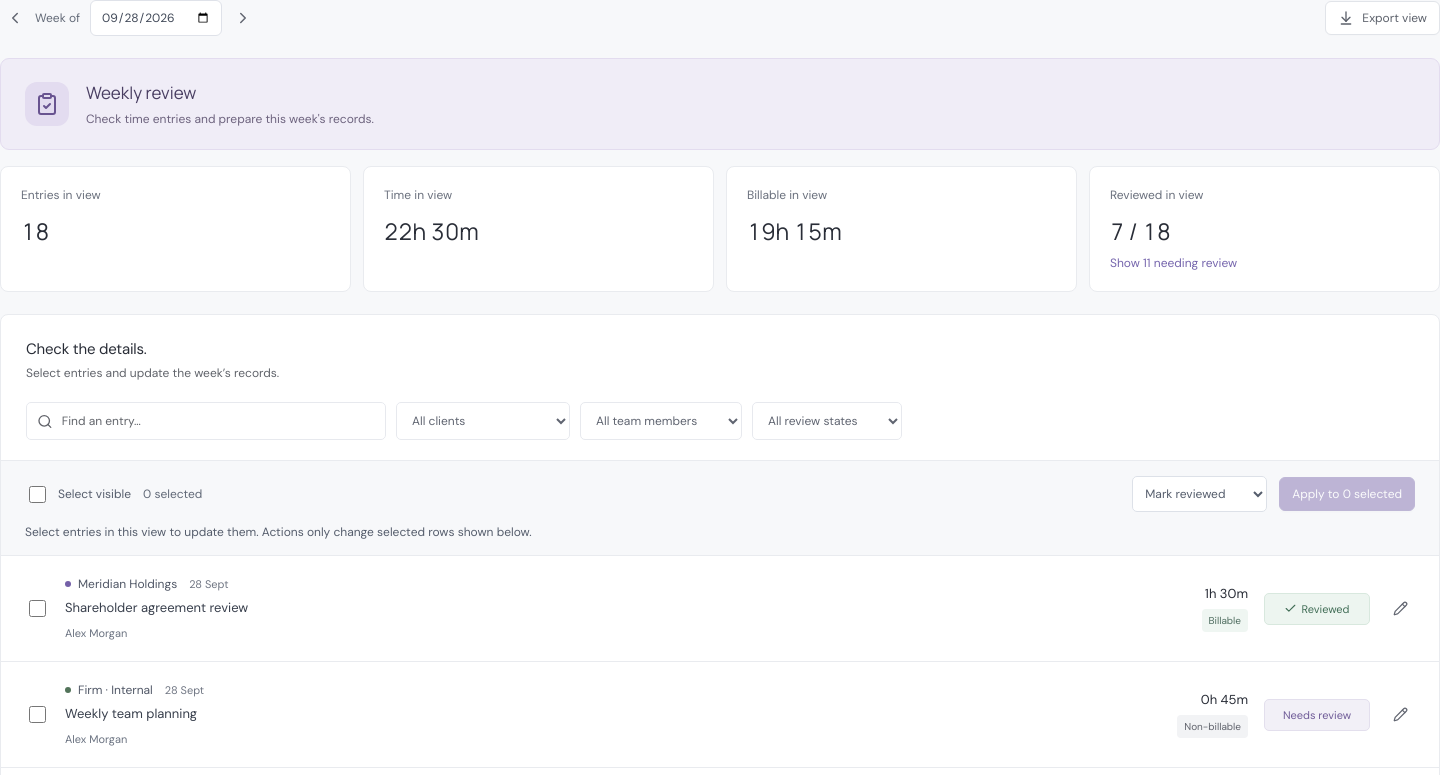
Test case: Search typos keep the selection › actions and Select visible never drop rows hidden by search
Click the checkbox named "Select Weekly team planning" at (38, 714), box [29, 706, 46, 722]
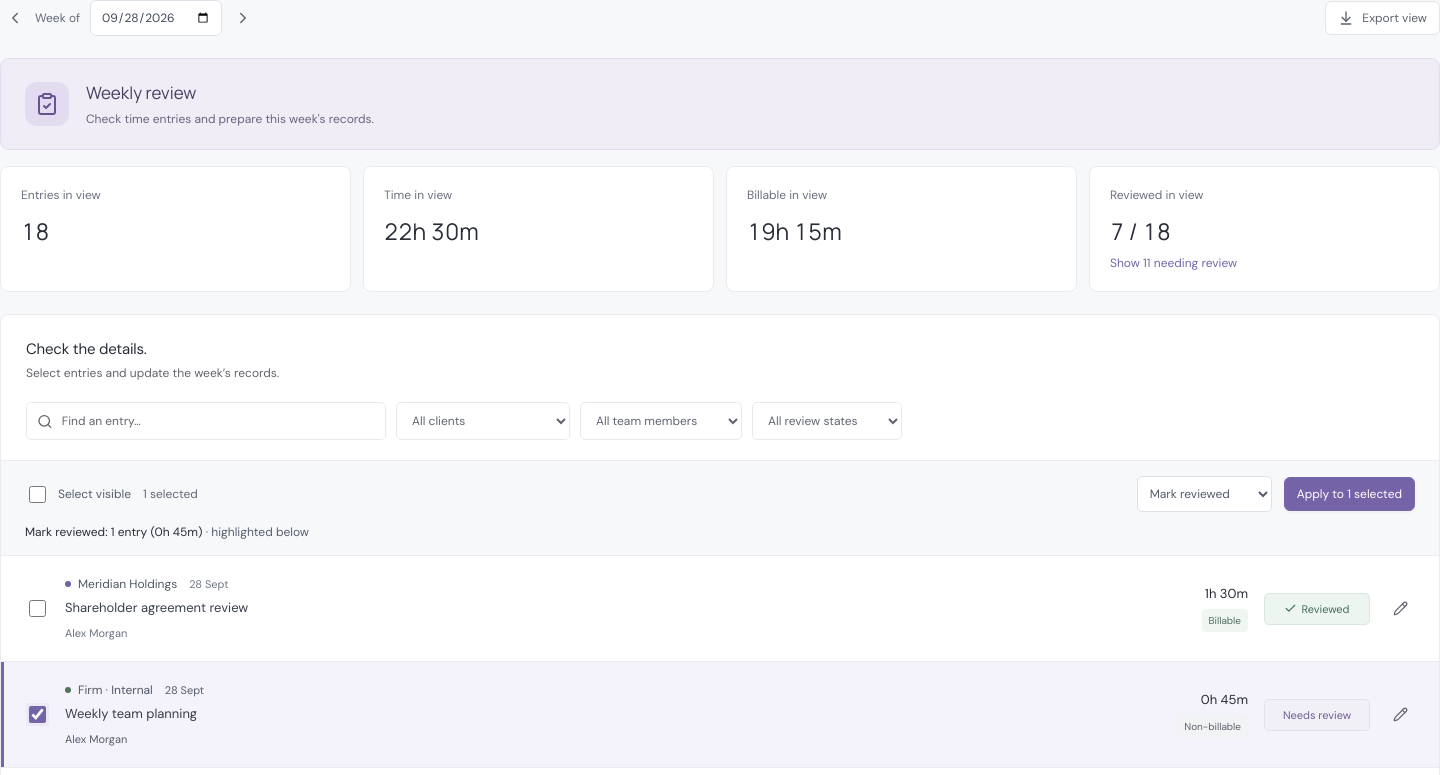
Type "lease" into the field named "Search review" at (218, 421), box [62, 403, 375, 439]
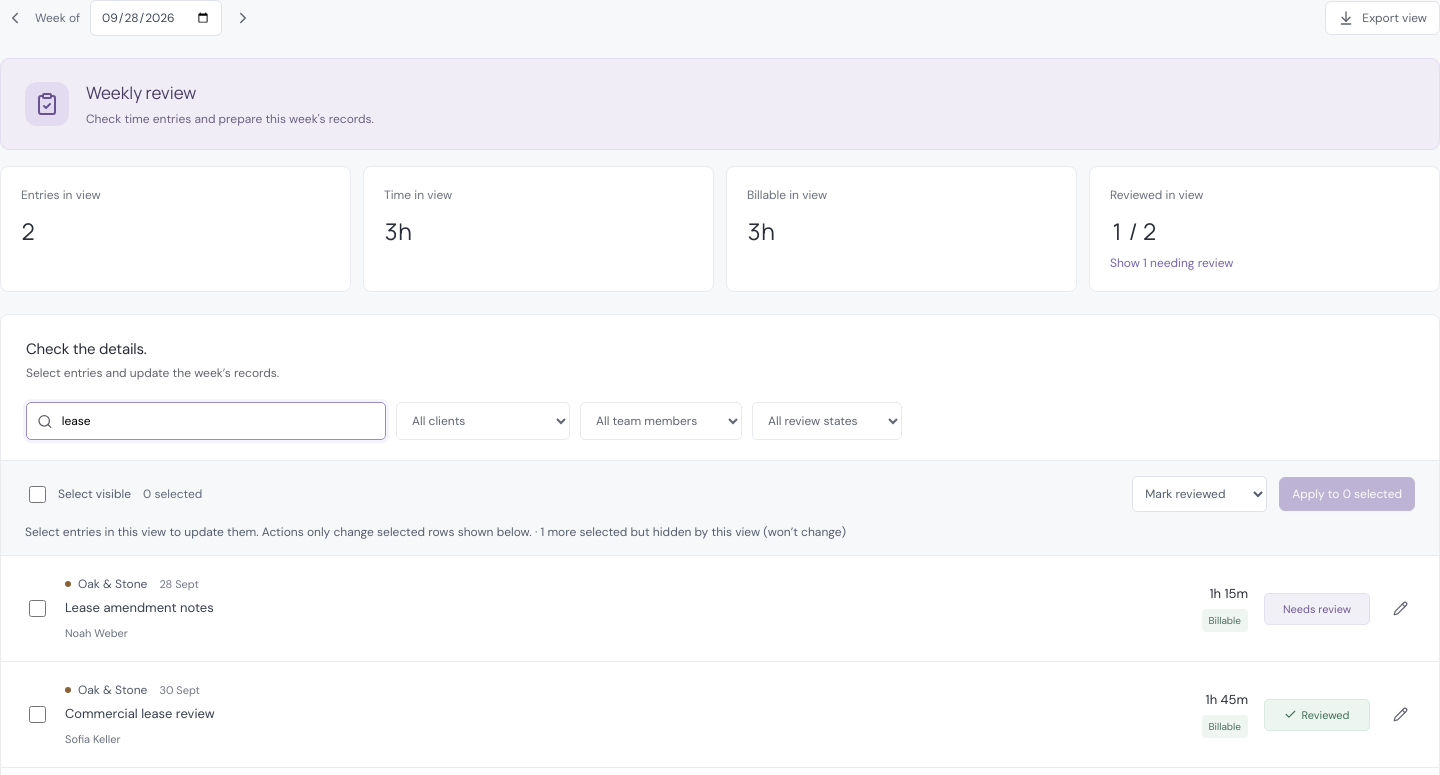
Click the checkbox named "Select visible entries" at (38, 494), box [29, 486, 46, 502]
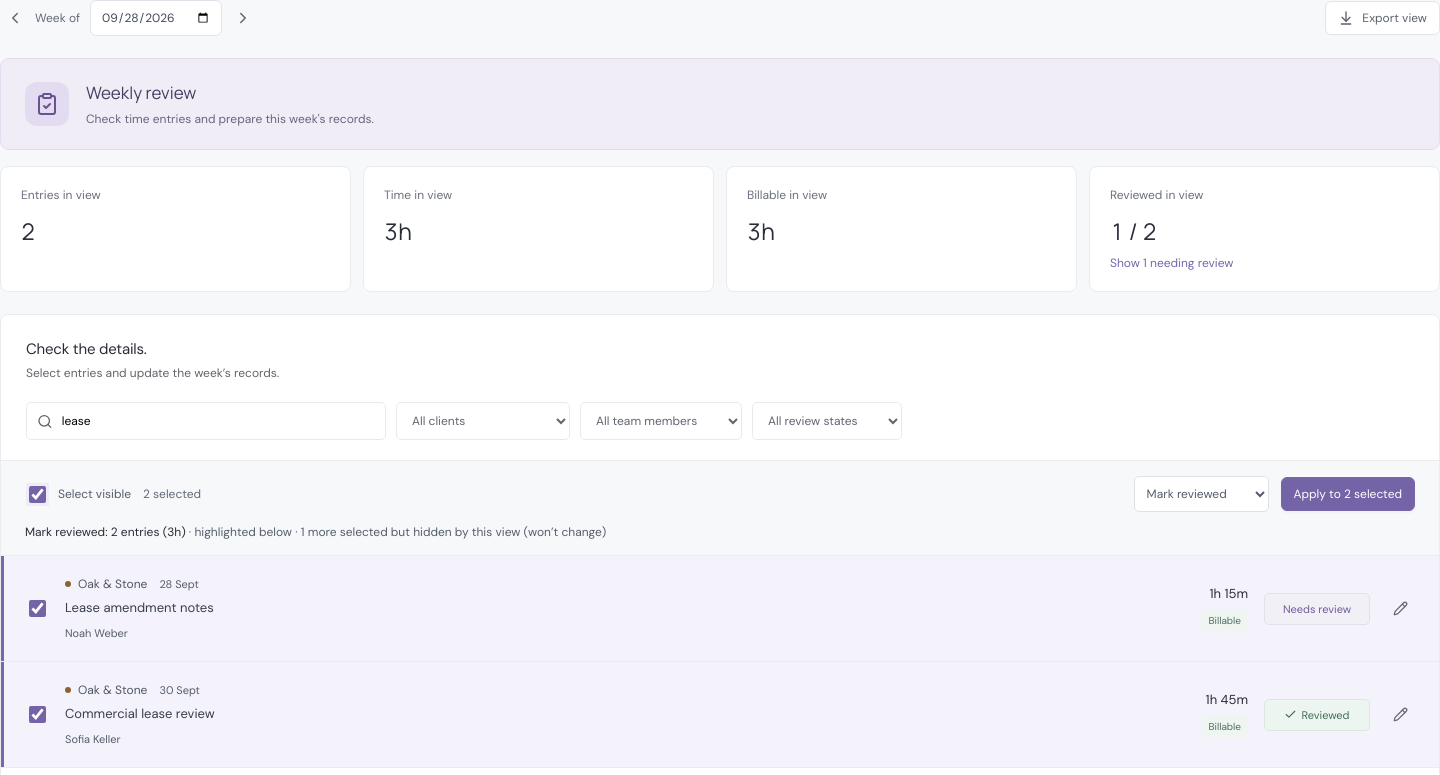
Click the button "Apply to 2 selected" at (1348, 494), box [1281, 477, 1415, 511]
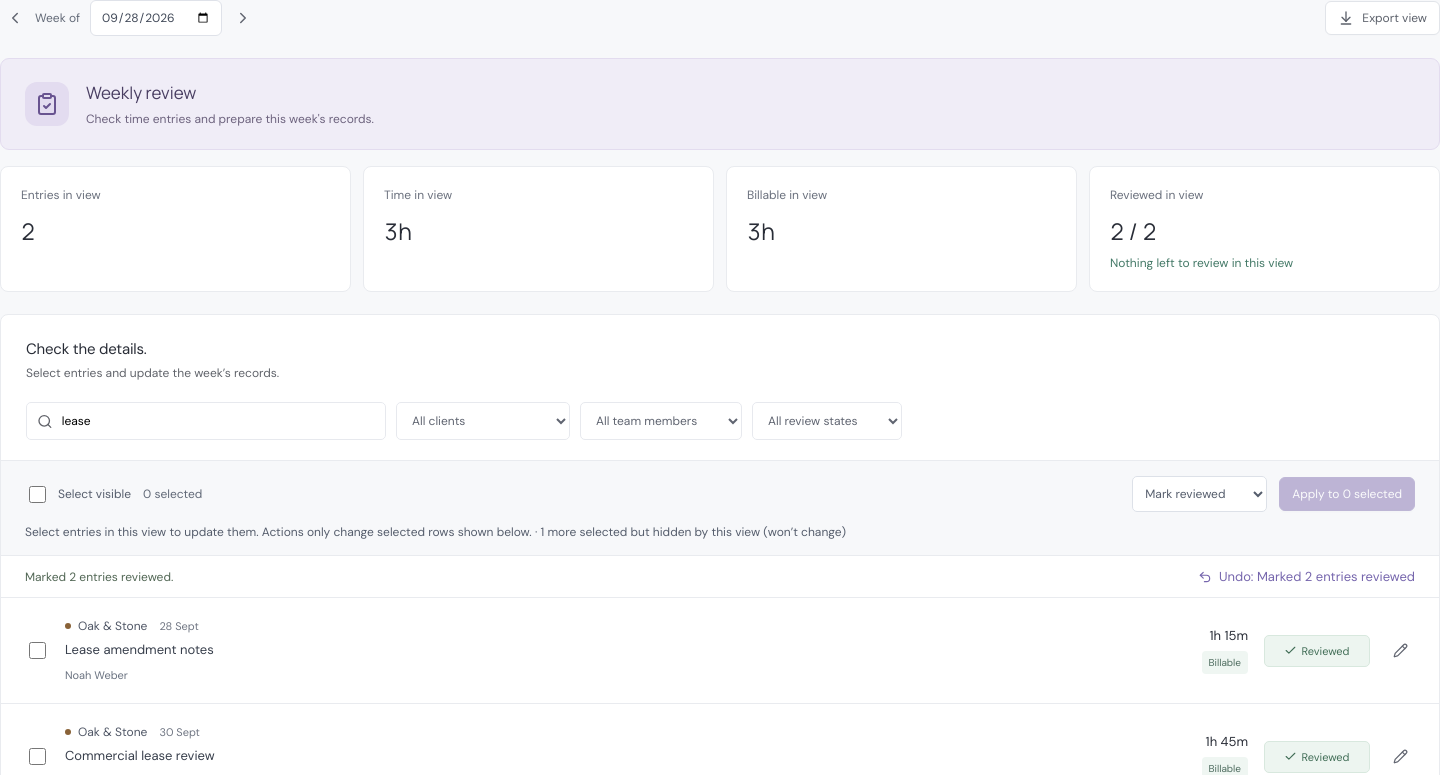
Clear the field named "Search review" at (218, 421), box [62, 403, 375, 439]
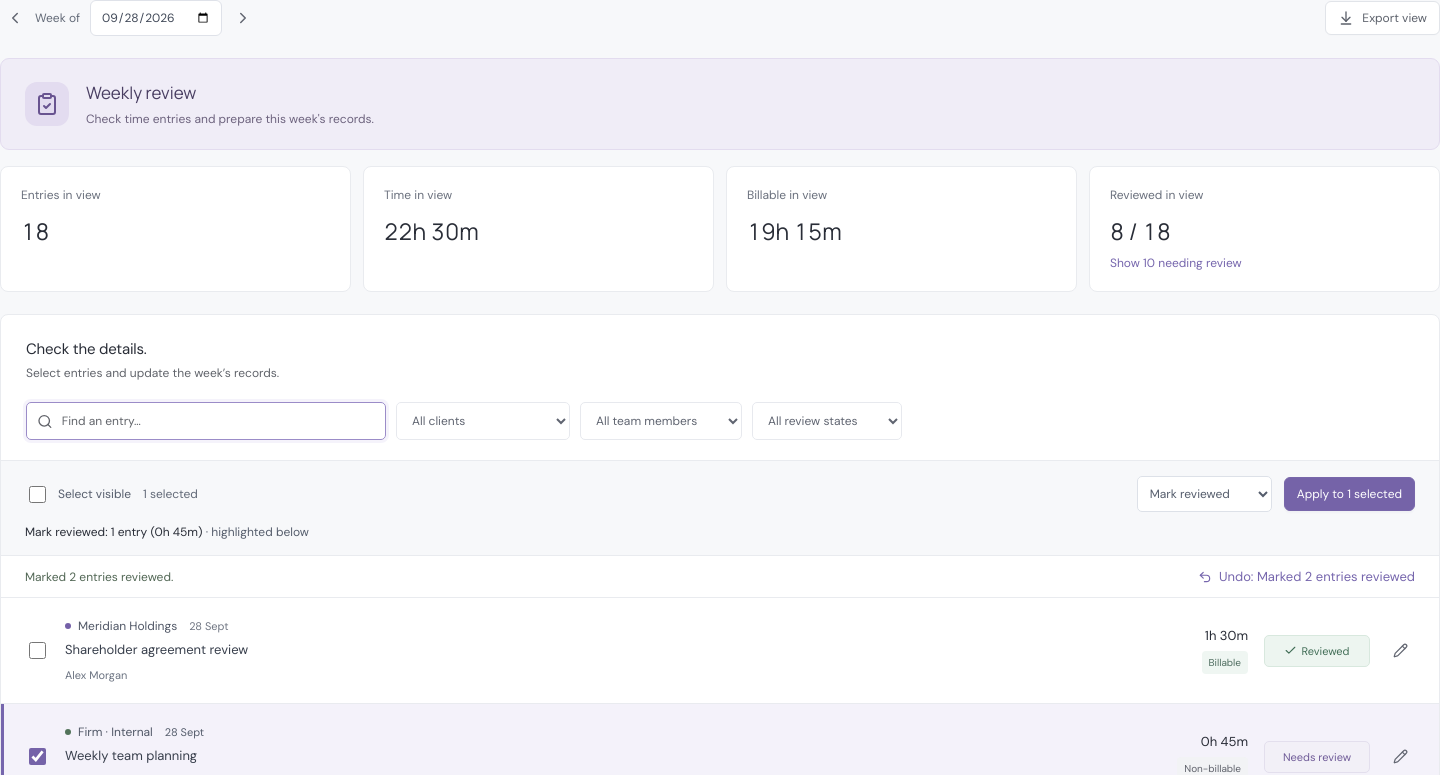
Expected: the checkbox named "Select Weekly team planning" is checked, [29, 748, 46, 764]
